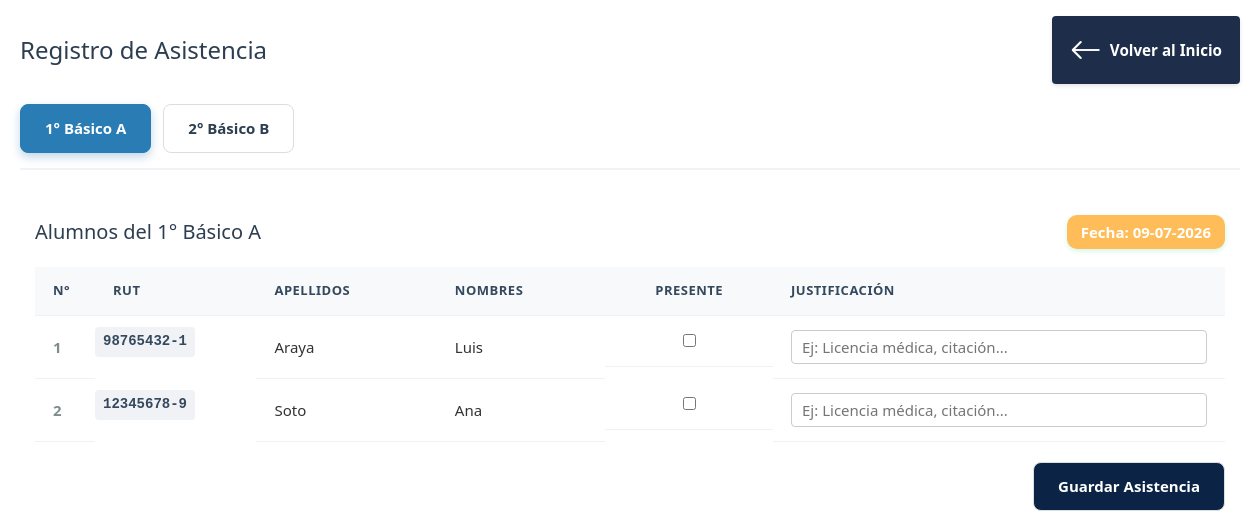
Scenario: Asistencia › Switch de presencia y justificación › el input de justificación se deshabilita cuando el alumno está presente
Expected: the text "Araya" is shown, [256, 316, 437, 378]
Click the checkbox in the row of "98765432-1" at (689,340), box [683, 334, 696, 346]
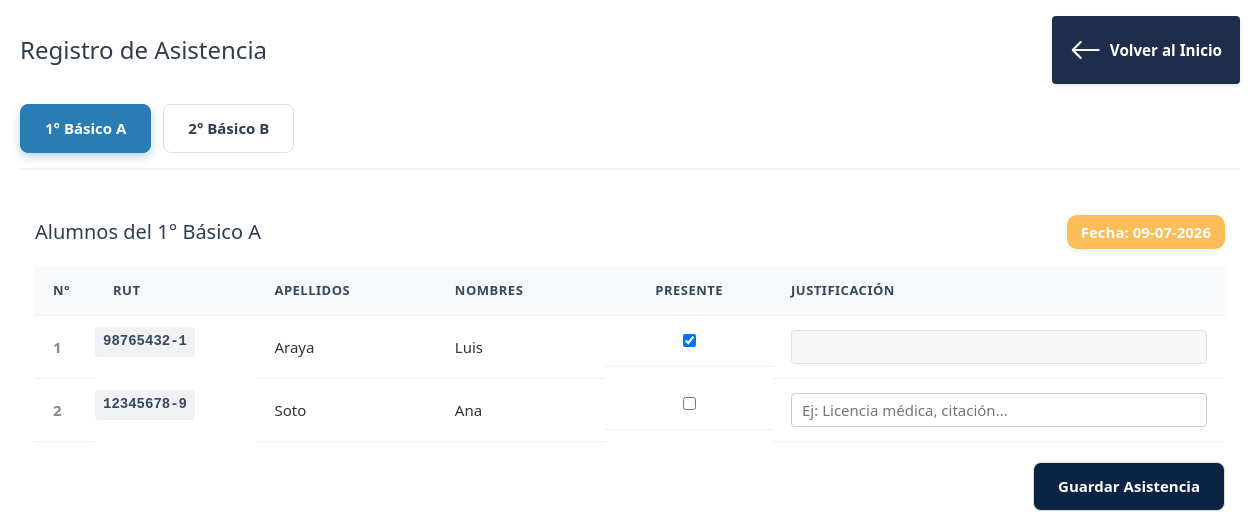
Expected: the 1st field is disabled, [791, 330, 1207, 364]
